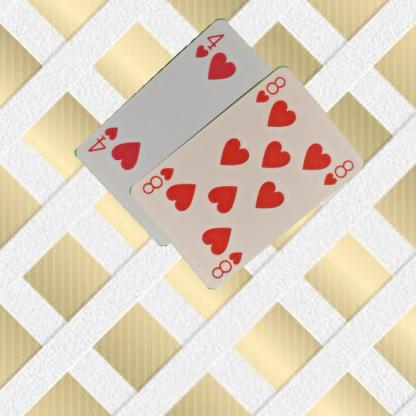4h: (192, 30, 226, 60)
8h: (252, 73, 288, 104), (209, 249, 244, 280)
